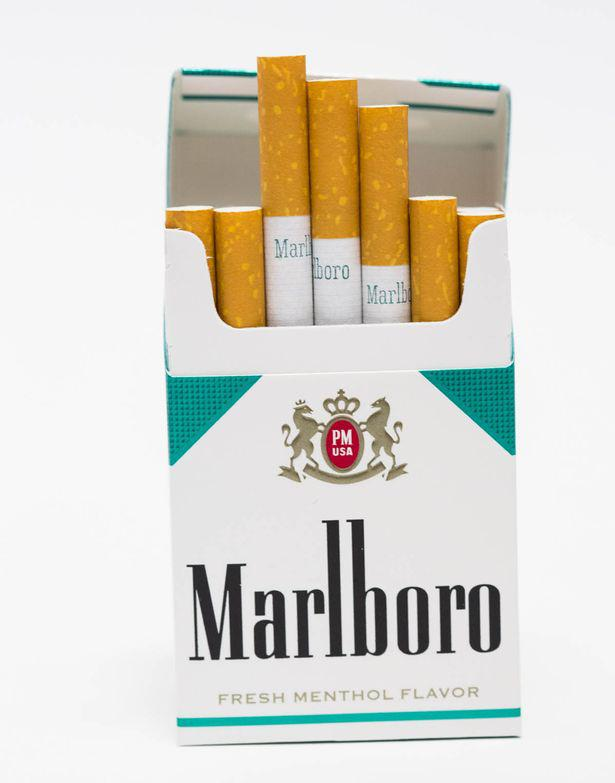marlboro_mentol: (167, 238, 519, 736)
